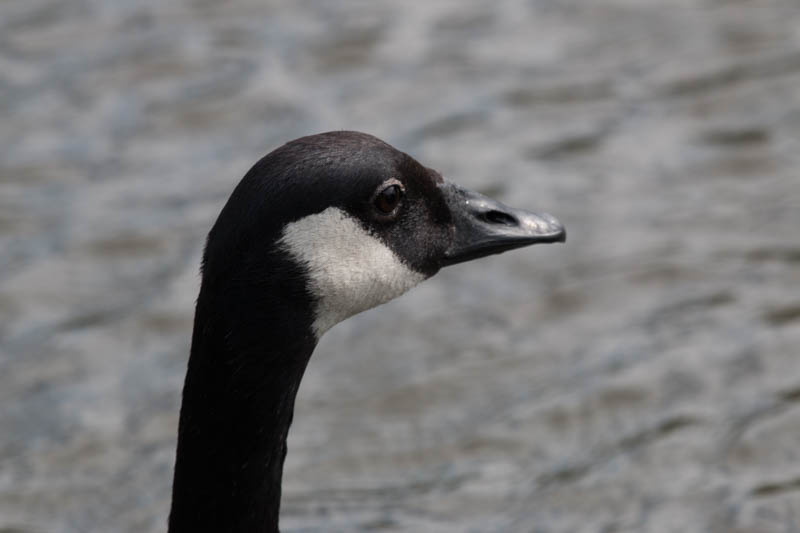goose-head: (201, 130, 566, 340)
